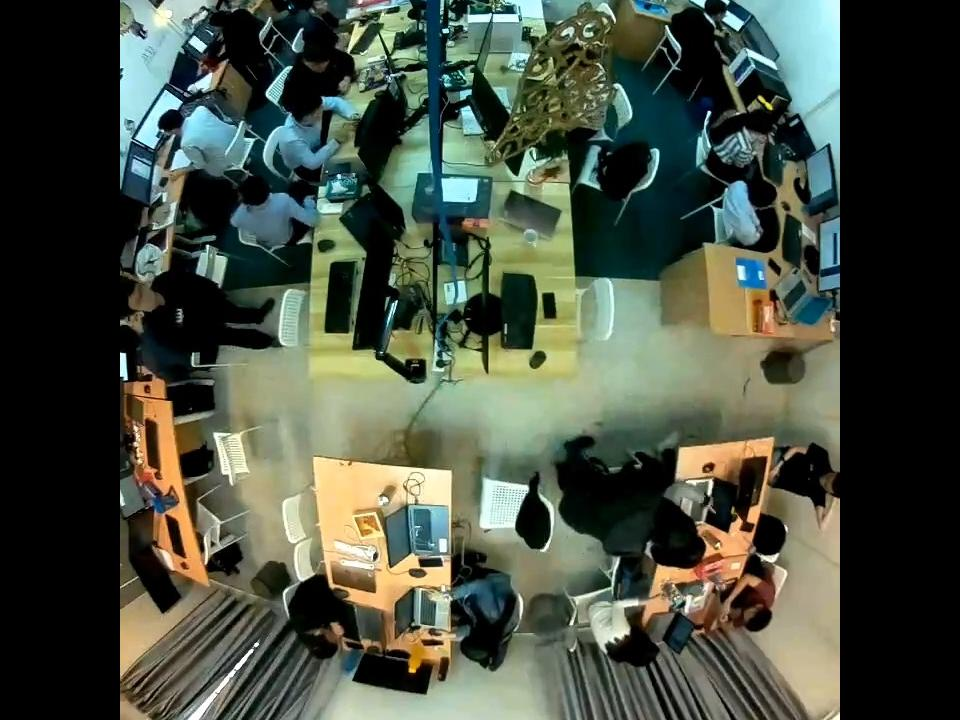name-tag: (174, 304, 184, 322)
